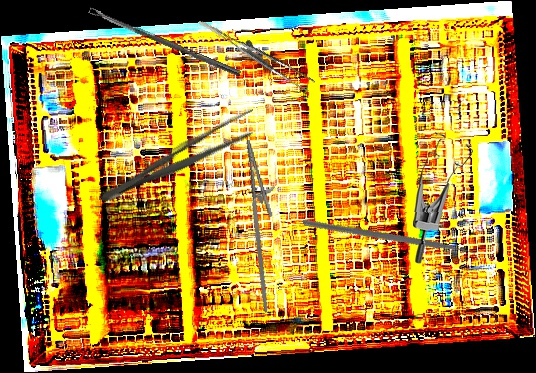Chopper: (302, 165, 481, 321)
Dressing Forceps: (95, 104, 264, 212)
Needle Holder: (225, 136, 302, 313)
Speculum: (409, 130, 478, 265)
Surgical Spoon: (88, 6, 242, 77)
Tissue Forceps: (198, 2, 316, 103)
